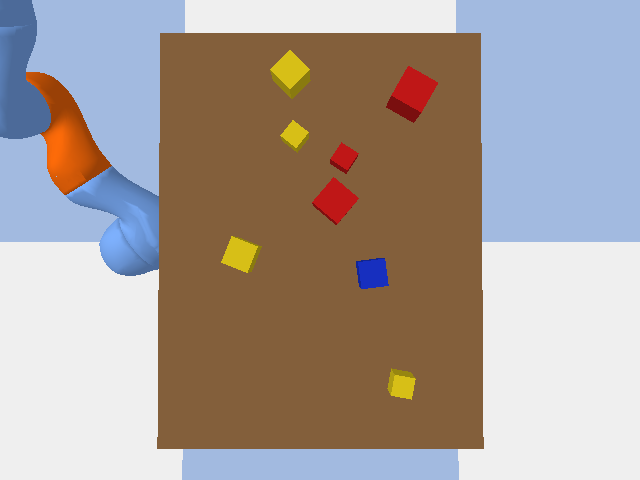blue_obj: (356, 258, 388, 288)
red_obj: (386, 66, 437, 122), (312, 177, 358, 224), (330, 142, 358, 173)
yellow_obj: (270, 50, 310, 98), (221, 236, 261, 272), (280, 120, 308, 152), (387, 368, 415, 399)
